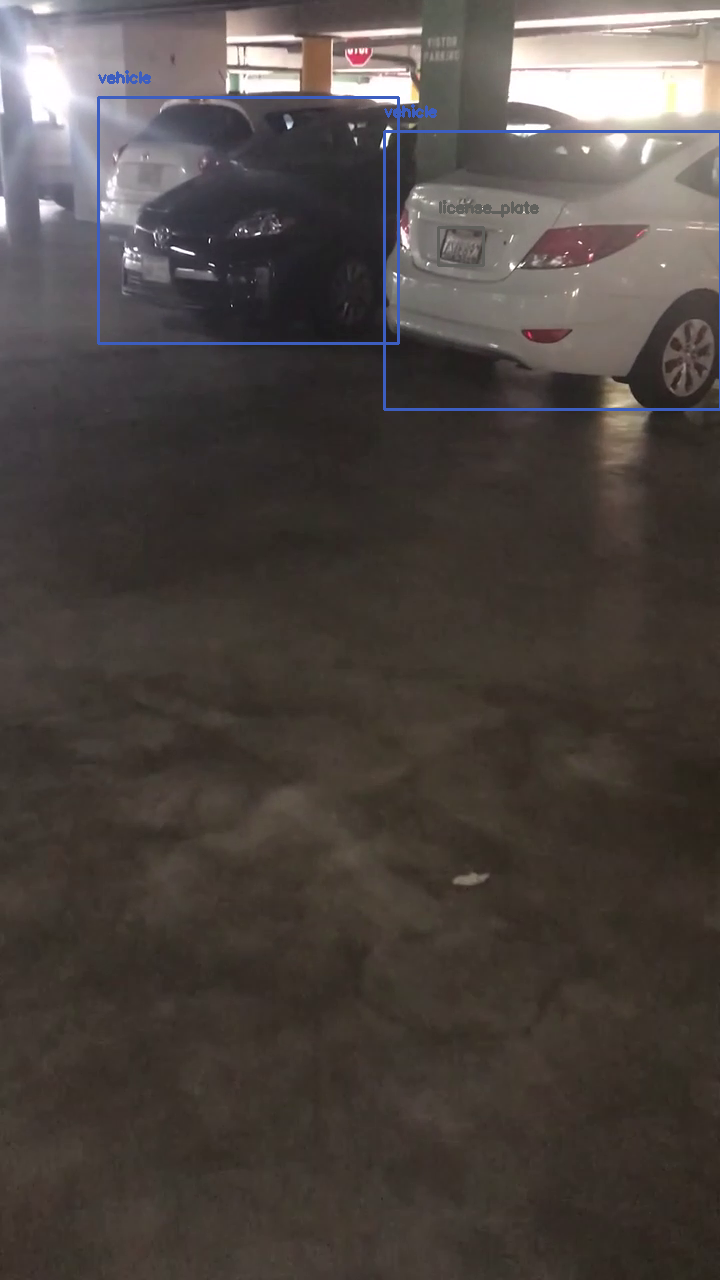license_plate: (438, 227, 483, 265)
vehicle: (384, 131, 720, 409), (98, 97, 398, 343)
